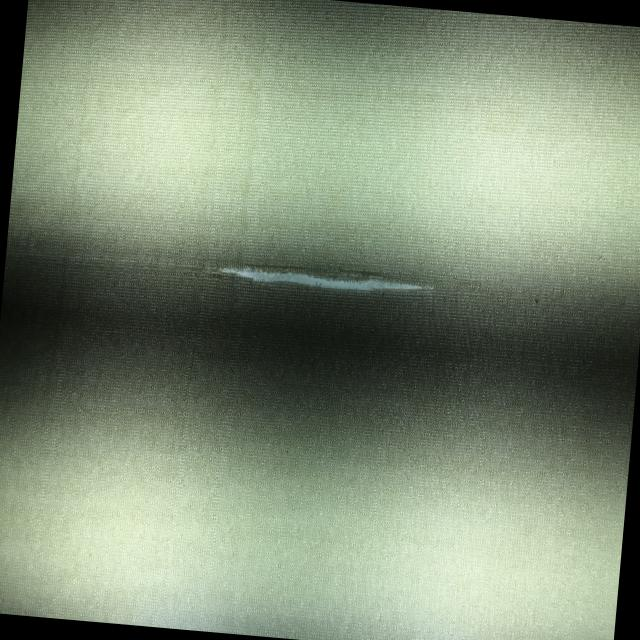Warp_Weft: (215, 260, 428, 305)
